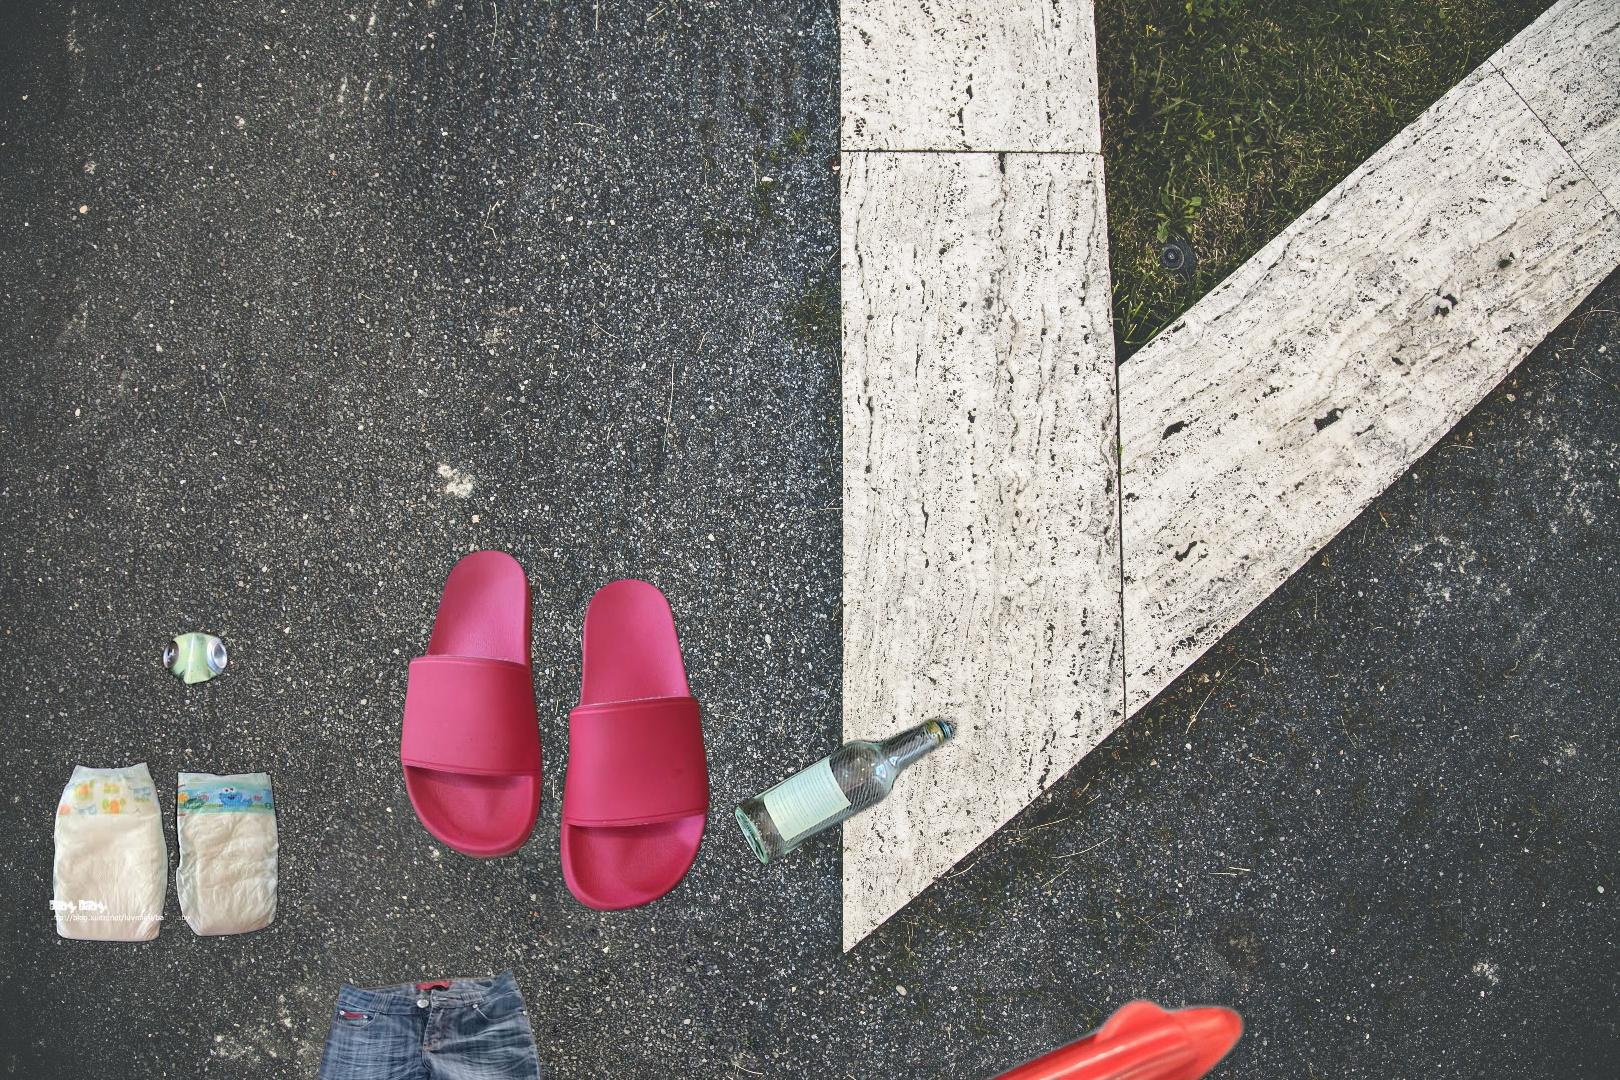clothes: (268, 970, 607, 1080)
glass: (729, 712, 959, 870)
metal-cans: (158, 453, 395, 692)
penholder: (89, 987, 1514, 1080)
shoes: (397, 544, 712, 917)
trash: (39, 755, 283, 947)
